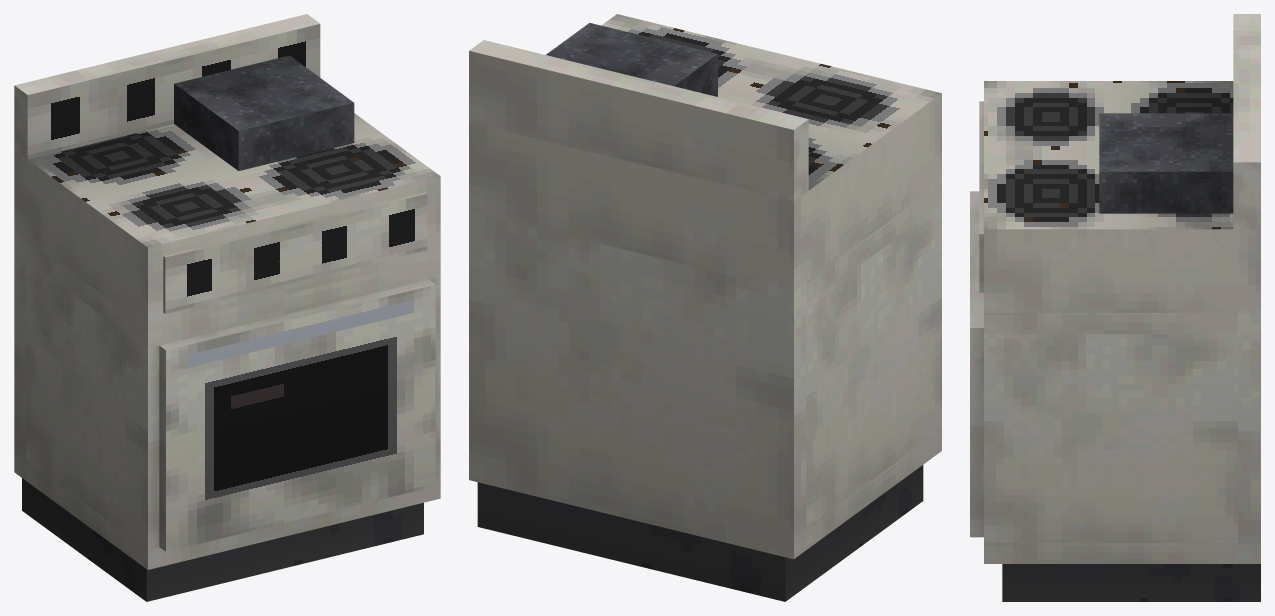
Rendered from stove_white.glb.
The picture shows the model from 3 angles, left to right: view 1: azimuth 30°, elevation 25°; view 2: azimuth 150°, elevation 25°; view 3: azimuth 270°, elevation 25°; orthographic projection. The views are drawn at different scales.
Parts seen in each view (by area): view 1: stove_white, stove_white_door; view 2: stove_white; view 3: stove_white, stove_white_door.
Boxes of the visible parts, box(x1,y1,x2,y2) form: stove_white: box(14, 14, 440, 601); stove_white_door: box(159, 280, 435, 551); stove_white: box(469, 14, 941, 601); stove_white: box(979, 14, 1260, 601); stove_white_door: box(970, 191, 983, 537).
Size of the model in its own units: 0.76 by 1.06 by 0.63.
Materials: 2 (2 with a texture image).
